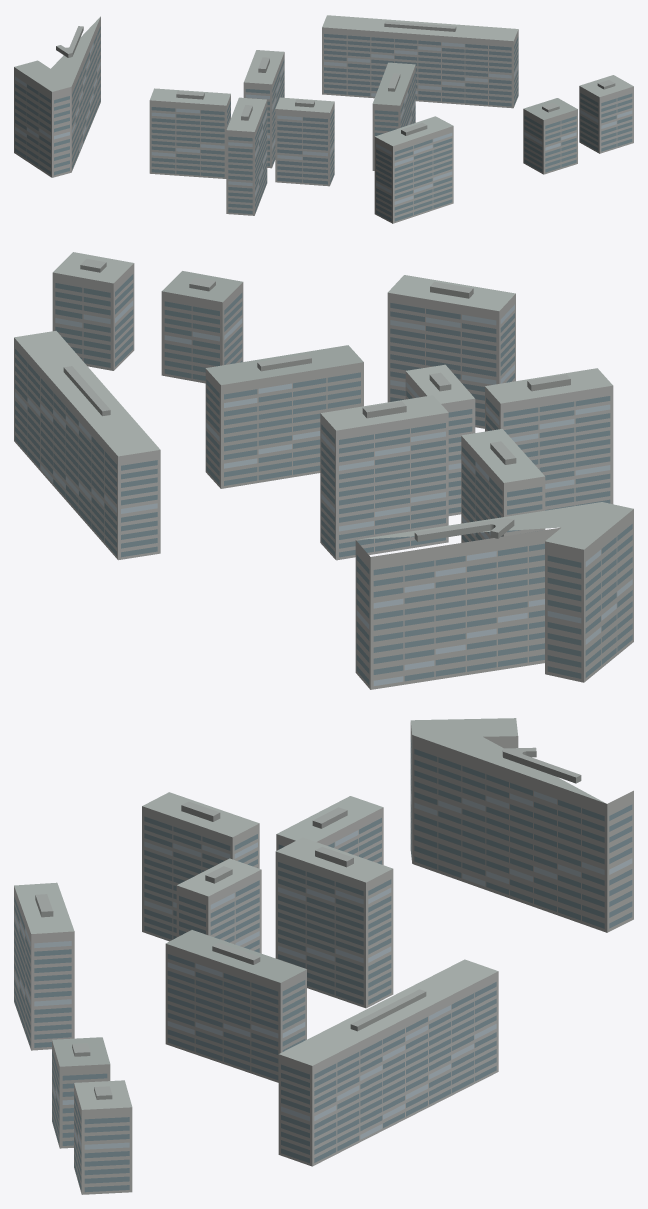
Rendered from apt-a15805403.glb.
3 views of the same model, one above another, from view 1: azimuth 30°, elevation 25°; view 2: azimuth 150°, elevation 25°; view 3: azimuth 270°, elevation 25° (orthographic). The views are drawn at different scales.
Parts seen in each view (by area): view 1: apt-a15805403; view 2: apt-a15805403; view 3: apt-a15805403.
Boxes of the visible parts, <box> form: apt-a15805403: <box>14,15,633,223</box>; apt-a15805403: <box>14,252,633,689</box>; apt-a15805403: <box>14,718,633,1194</box>.
Size of the model in its own units: 226 by 41 by 171.
